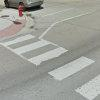Crosswalk: (7, 29, 98, 92)
